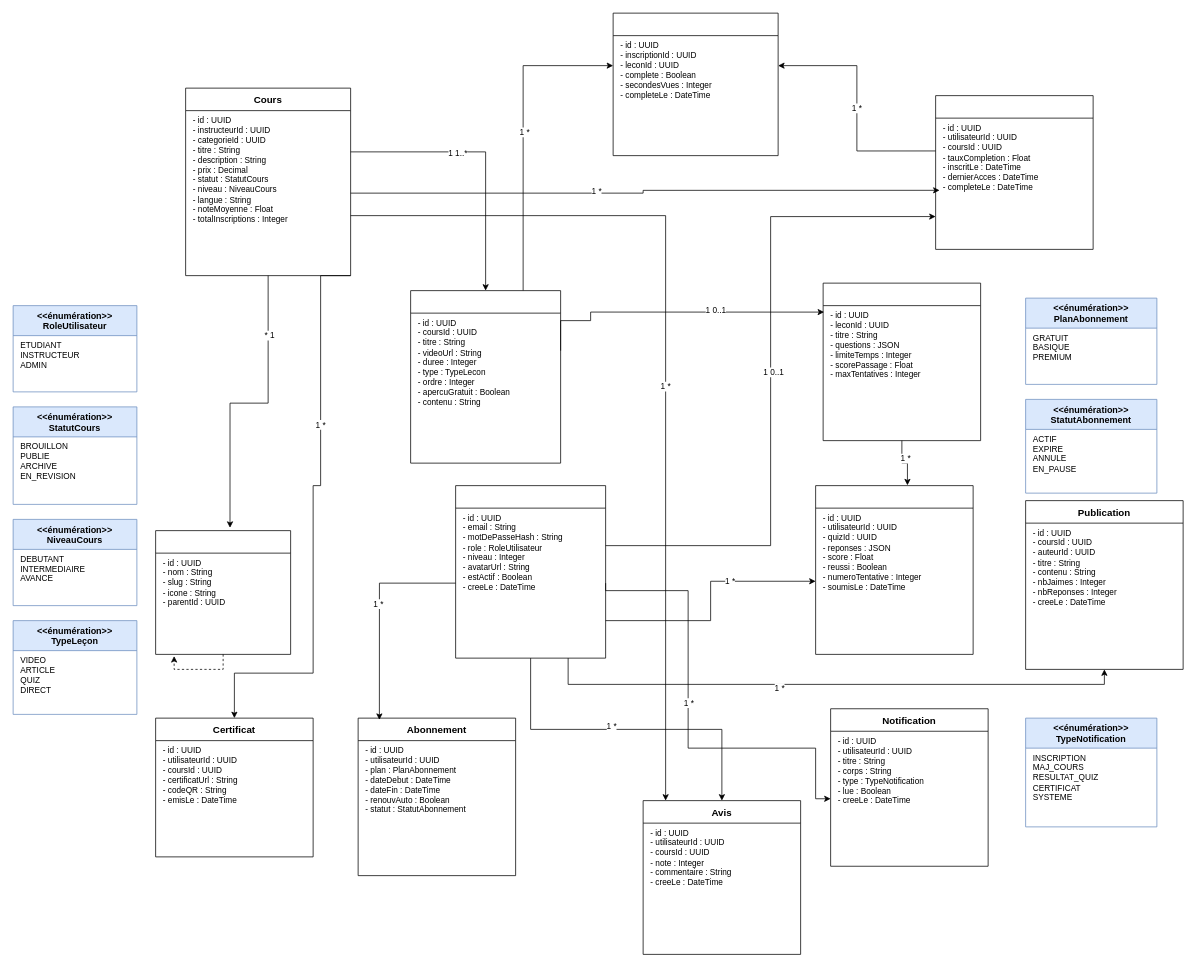
Some shapes in this 1196 by 968 pixel diagram are drawn without their labels. Here are the shapes that lost their labels. From the top down, the box of each, then its label:
(612, 12, 778, 156): ProgressionLeçon
(935, 95, 1093, 249): Inscription
(410, 290, 561, 463): Leçon
(822, 282, 981, 441): Quiz
(455, 485, 606, 658): User
(815, 485, 973, 654): SoumissionQuiz
(155, 530, 291, 654): Catégorie
